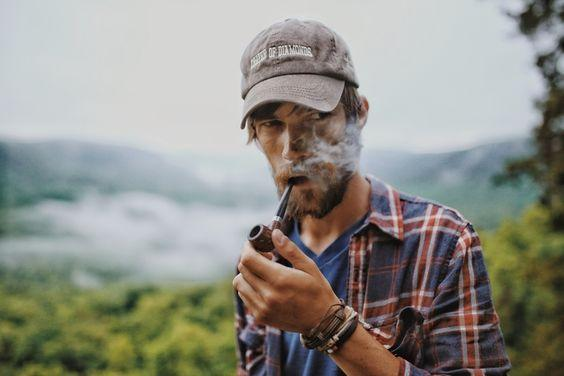trubka: (248, 177, 298, 252)
